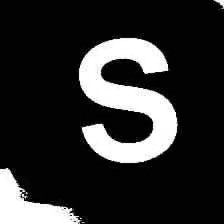LTR_S: (70, 27, 184, 171)
